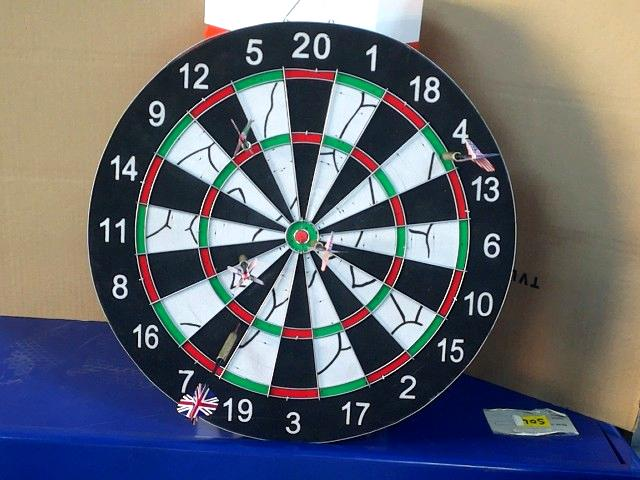bullseye: (285, 223, 320, 252)
double_4: (424, 125, 457, 173)
double_7: (190, 310, 247, 362)
single_12: (200, 105, 249, 148)
single_8: (211, 242, 282, 269)
